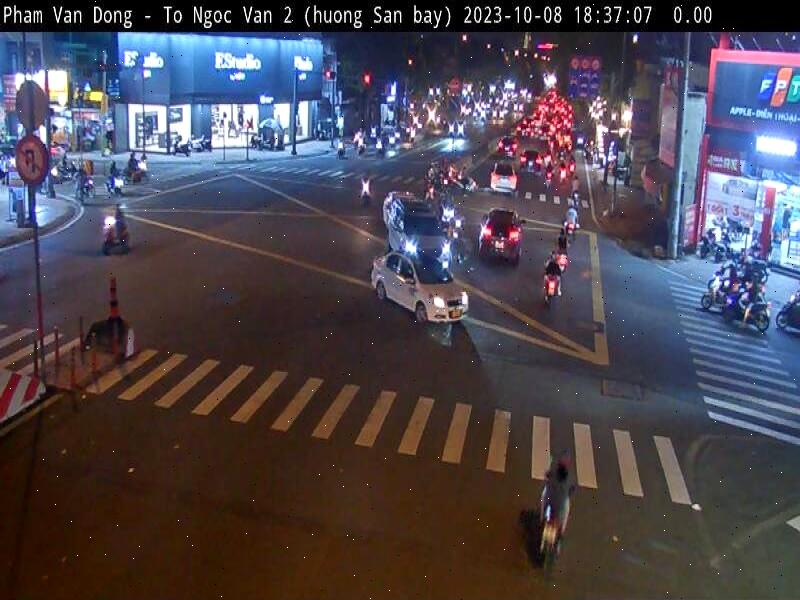car: (370, 245, 472, 331), (384, 195, 452, 278), (476, 206, 528, 266), (491, 160, 517, 200)
motorcycle: (720, 293, 772, 342), (538, 508, 568, 572), (698, 268, 732, 308)
